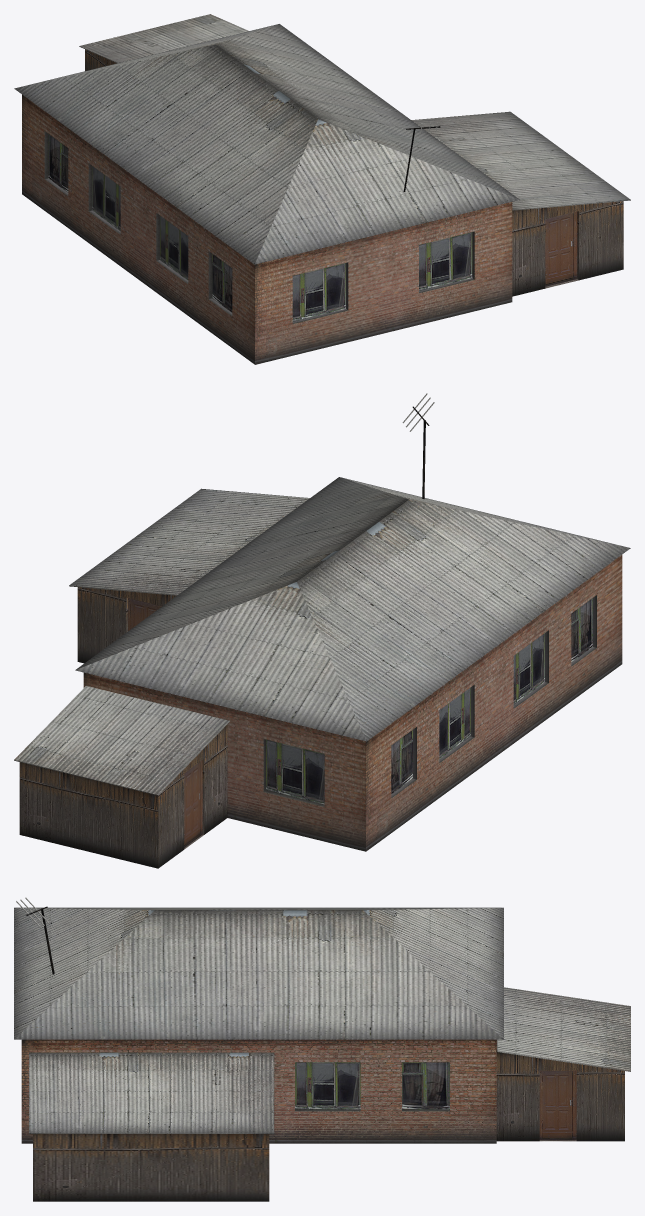
File: r402_olgino_dom_1et.FBX
3 renders of one model, top to bottom at view 1: azimuth 30°, elevation 25°; view 2: azimuth 150°, elevation 25°; view 3: azimuth 270°, elevation 25°, orthographic. The views are drawn at different scales.
Parts seen in each view (by area): view 1: r402_olgino_dom_1et; view 2: r402_olgino_dom_1et; view 3: r402_olgino_dom_1et.
Boxes of the visible parts, x1=… form: r402_olgino_dom_1et: x1=14, y1=14, x2=630, y2=364; r402_olgino_dom_1et: x1=14, y1=393, x2=630, y2=868; r402_olgino_dom_1et: x1=14, y1=897, x2=630, y2=1201.
Bounding box in the file's own units: 11.59 × 15.83 × 5.79.
